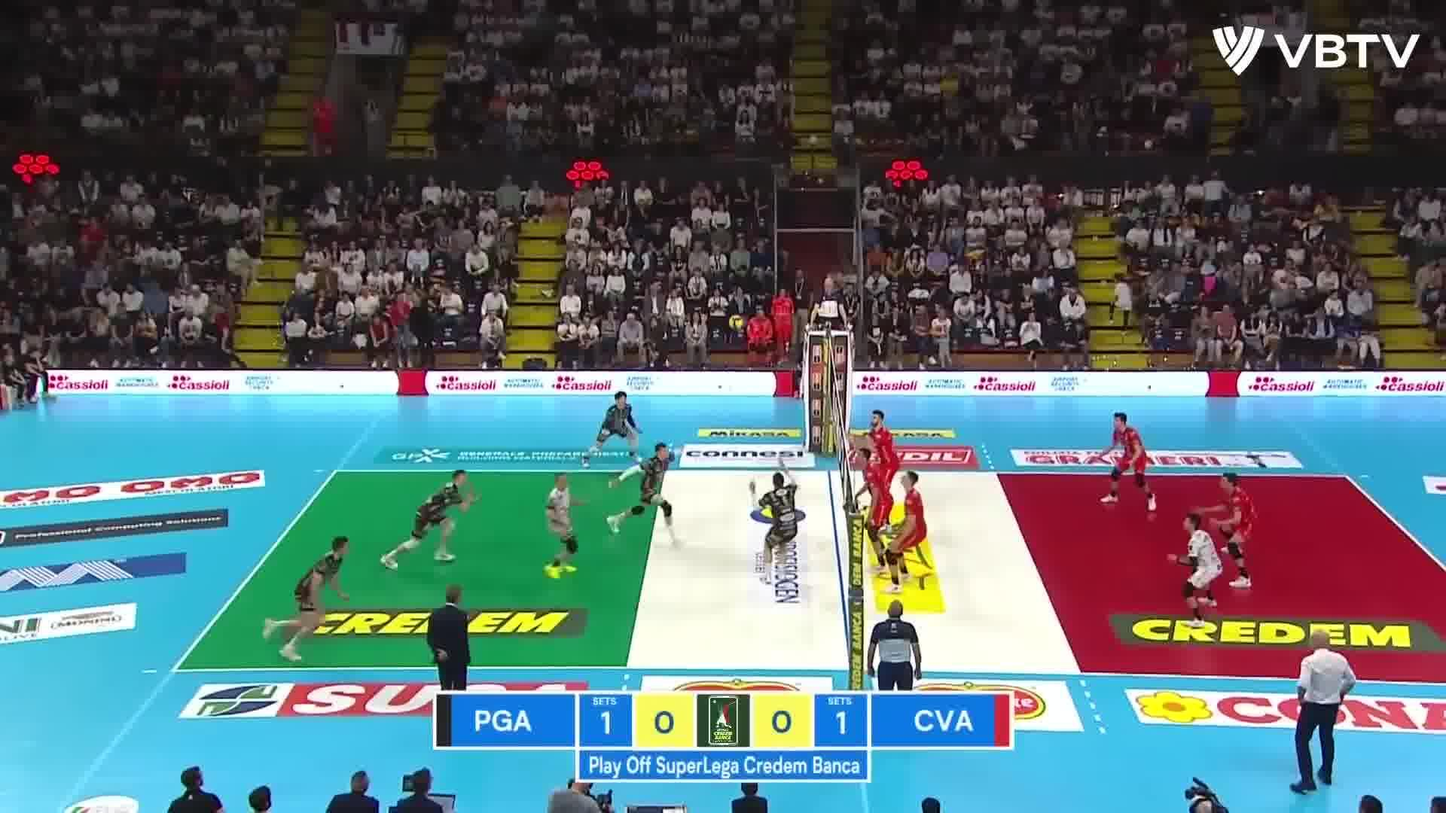balls: (725, 311, 748, 330)
